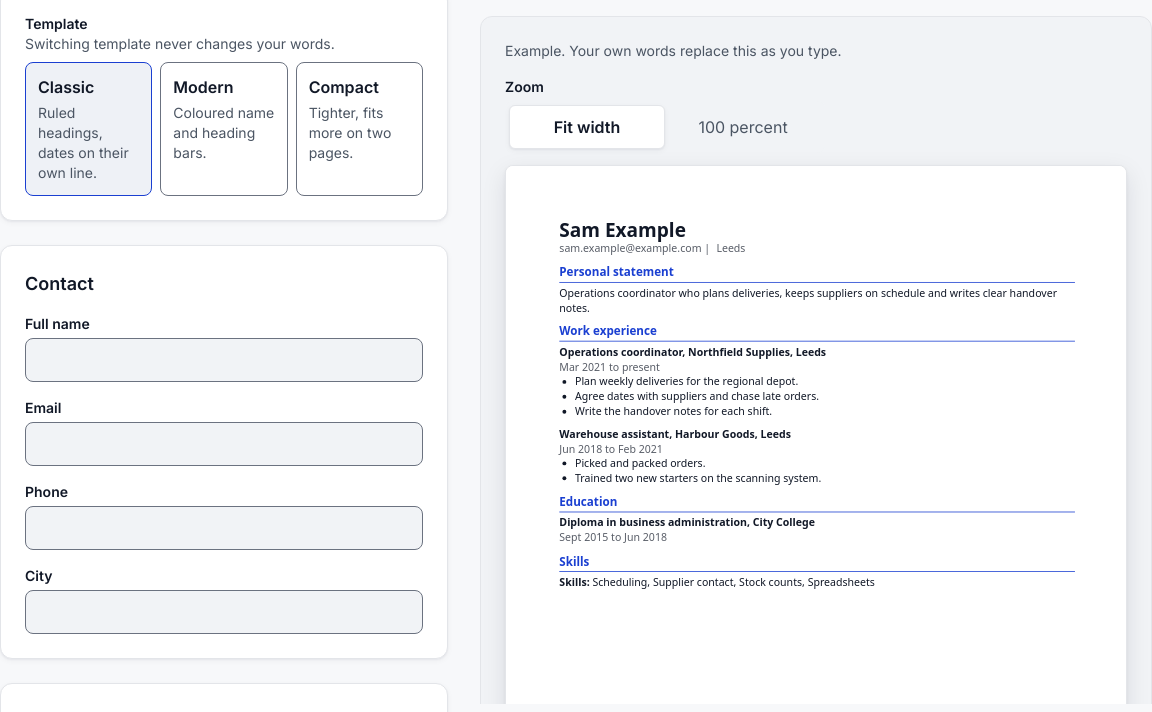
CvBuilderShell › shows typed text in the preview and saves after the pause
(page scrolled)
Type "Asha Rao" into the field labelled "Full name" at (224, 360), box [25, 338, 423, 382]
(page scrolled)
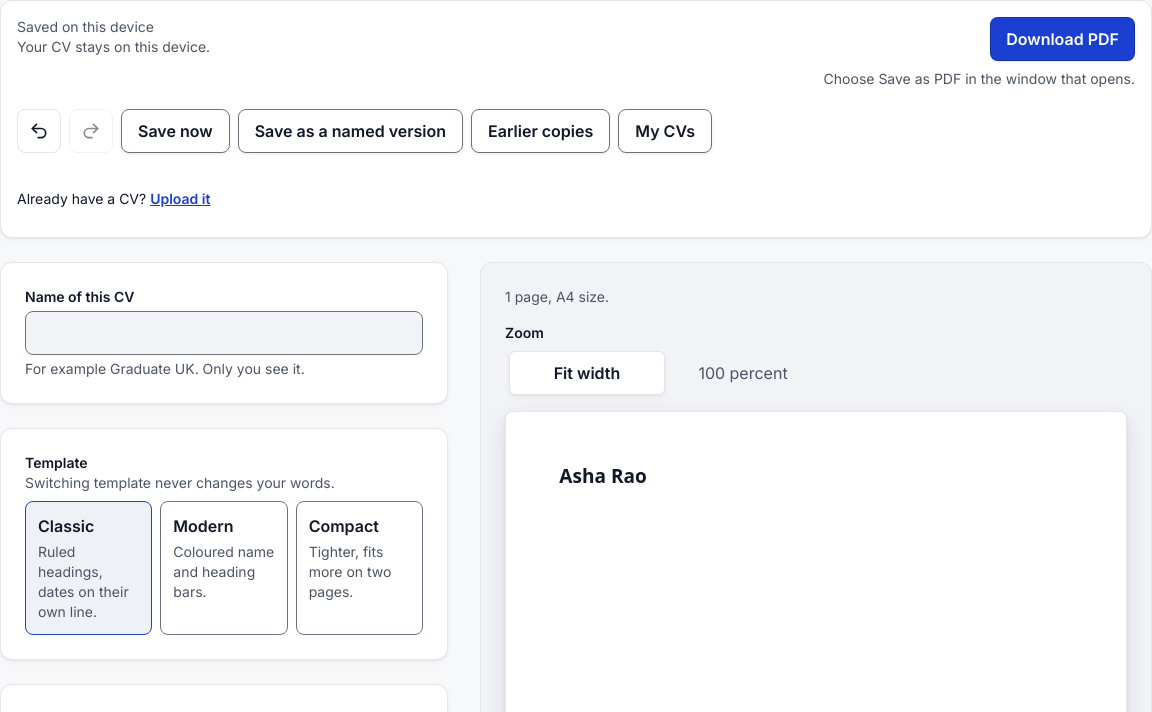
Expected: the element named "CV preview" shows "Asha Rao", [559, 463, 647, 489]
Expected: the message reads "Saved on this device", [17, 18, 154, 35]
